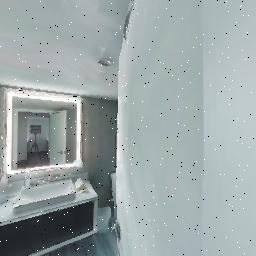sink: (10, 166, 77, 214)
